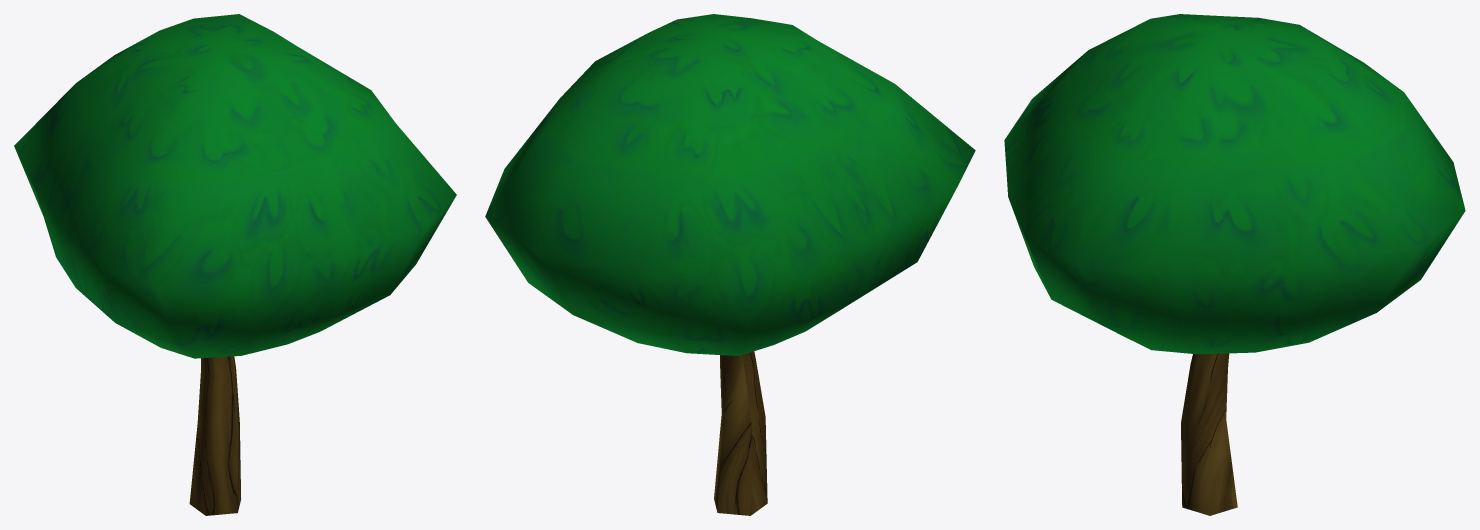
The model's file is Tree2.FBX.
The picture shows the model from 3 angles, left to right: view 1: azimuth 30°, elevation 25°; view 2: azimuth 150°, elevation 25°; view 3: azimuth 270°, elevation 25°; orthographic projection. The views are drawn at different scales.
Parts seen in each view (by area): view 1: Leaves_03, Tree_Trunk_02; view 2: Leaves_03, Tree_Trunk_02; view 3: Leaves_03, Tree_Trunk_02.
Boxes of the visible parts, x1=… form: Leaves_03: x1=14, y1=14, x2=456, y2=358; Tree_Trunk_02: x1=189, y1=356, x2=240, y2=515; Leaves_03: x1=485, y1=14, x2=975, y2=355; Tree_Trunk_02: x1=714, y1=351, x2=767, y2=515; Leaves_03: x1=1004, y1=14, x2=1465, y2=354; Tree_Trunk_02: x1=1181, y1=353, x2=1237, y2=515.
Bounding box in the file's own units: 11.81 × 14.64 × 12.79.
Materials: 1 (1 with a texture image).
